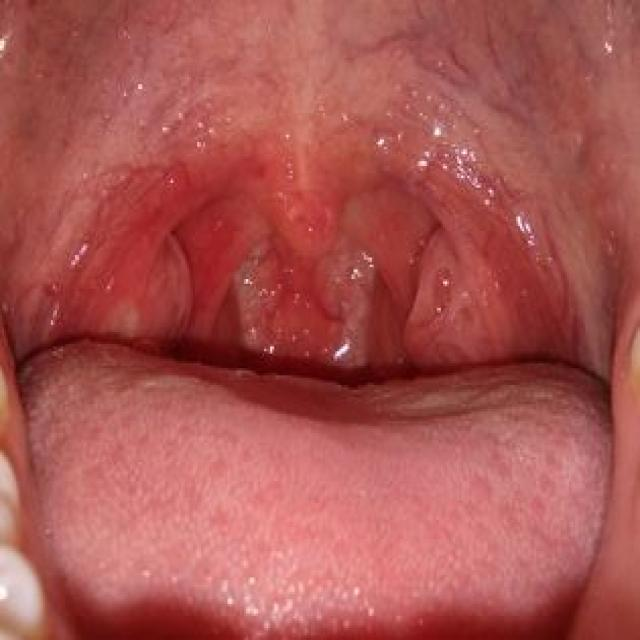Non Pharyngitis: (68, 162, 220, 378), (390, 190, 535, 404)
